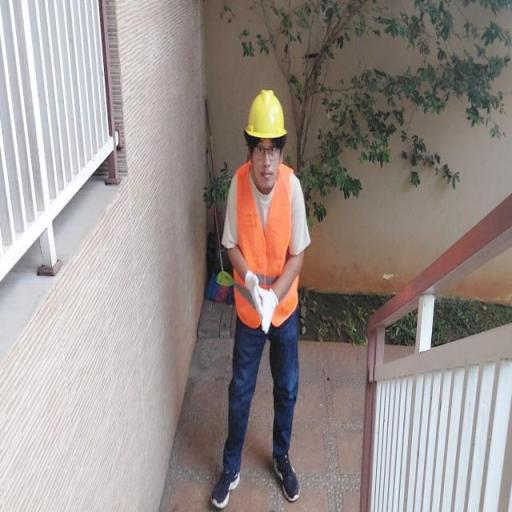Person: (184, 75, 326, 503)
gloves: (257, 282, 282, 336), (238, 268, 262, 310)
goggles: (246, 144, 288, 158)
helmet: (241, 84, 288, 140)
vest: (230, 161, 301, 348)
